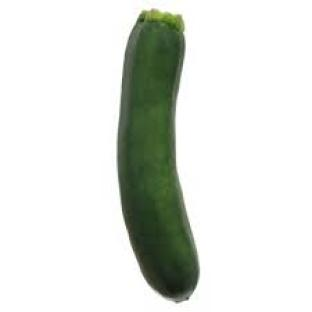Zucchini: (118, 10, 199, 302)
